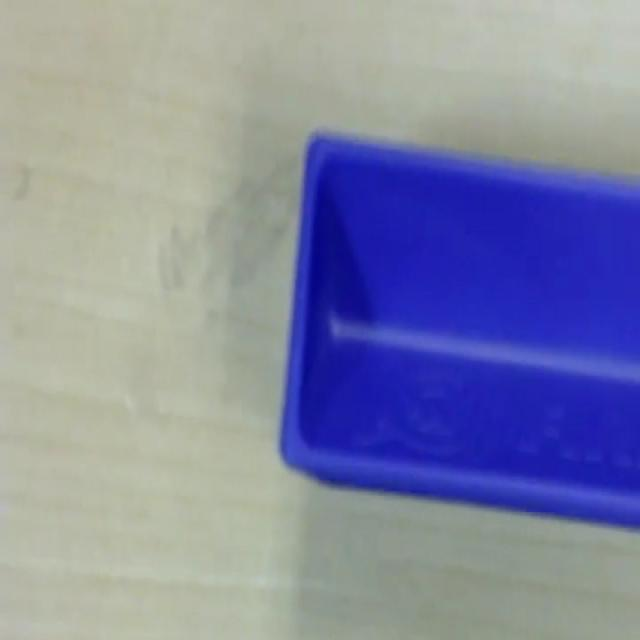blue_block: (278, 124, 639, 528)
